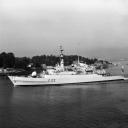Fragata: (7, 43, 126, 89)
